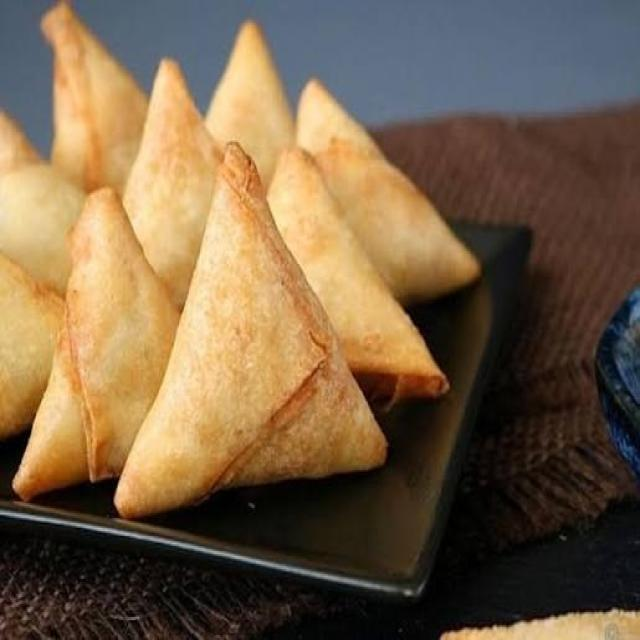Samboosa: (0, 4, 455, 503)
